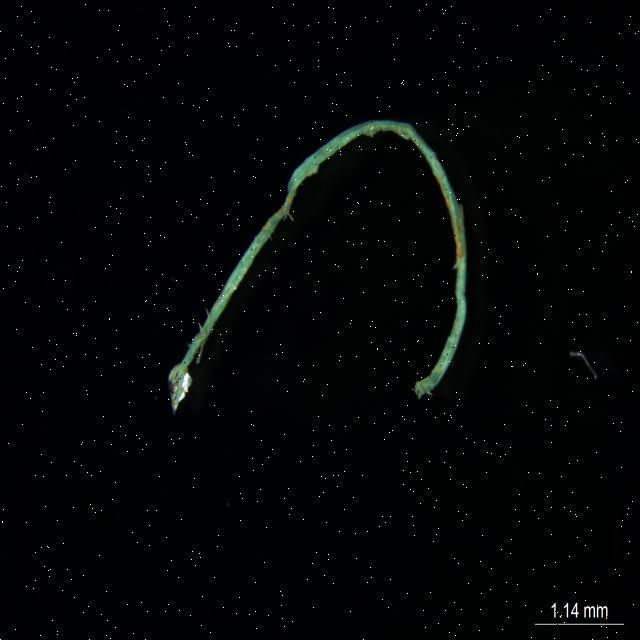Fibre: (163, 114, 471, 413)
